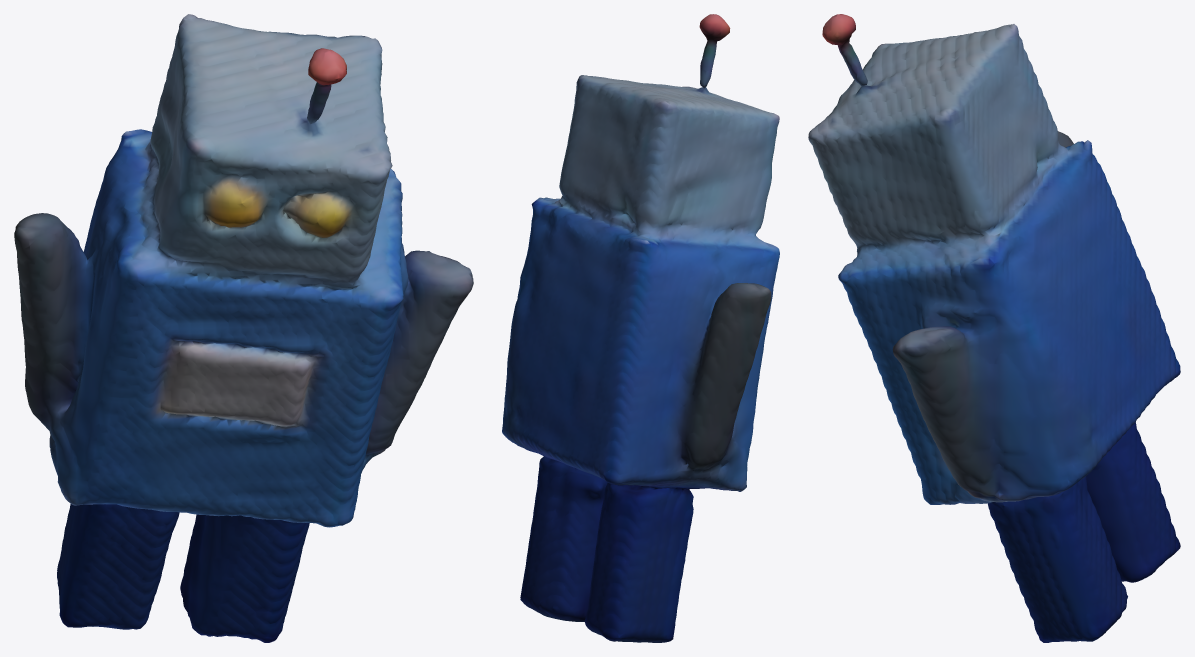
The model's file is robot-triposr.glb.
The picture shows the model from 3 angles, left to right: view 1: azimuth 30°, elevation 25°; view 2: azimuth 150°, elevation 25°; view 3: azimuth 270°, elevation 25°; orthographic projection. The views are drawn at different scales.
Parts seen in each view (by area): view 1: world; view 2: world; view 3: world.
Boxes of the visible parts, <box> form: world: <box>14,14,473,642</box>; world: <box>502,14,779,642</box>; world: <box>808,14,1180,642</box>.
Size of the model in its own units: 0.5221 by 0.9206 by 0.5171.
